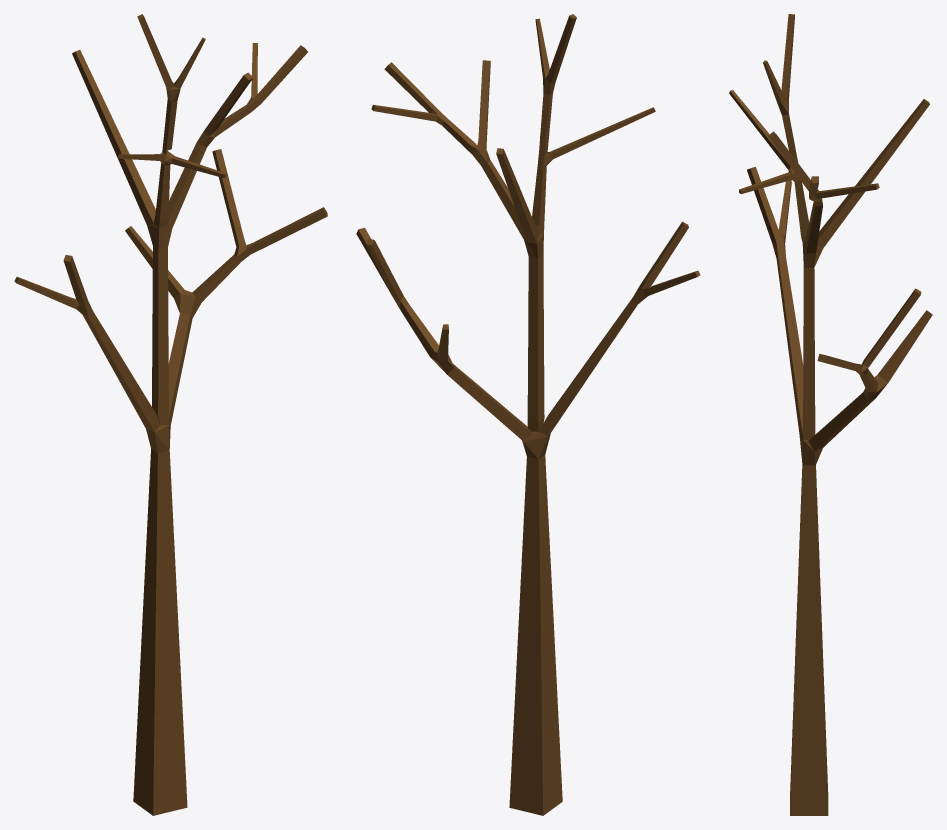
File: tree02.glb
3 renders of one model, left to right at view 1: azimuth 30°, elevation 25°; view 2: azimuth 150°, elevation 25°; view 3: azimuth 270°, elevation 25°, orthographic. The views are drawn at different scales.
Parts seen in each view (by area): view 1: Cube; view 2: Cube; view 3: Cube.
Boxes of the visible parts, x1,y1,x2,y2 form: Cube: (14,14,327,815); Cube: (356,14,700,815); Cube: (729,14,932,815).
Size of the model in its own units: 1.25 by 2.9 by 0.6851.
